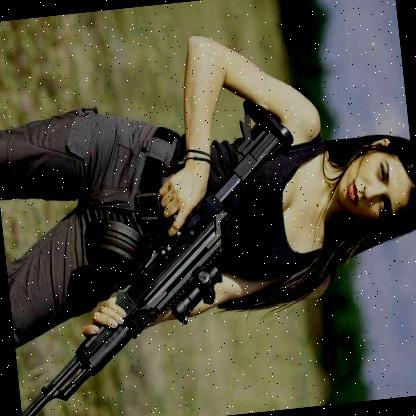rifle: (0, 94, 326, 416)
